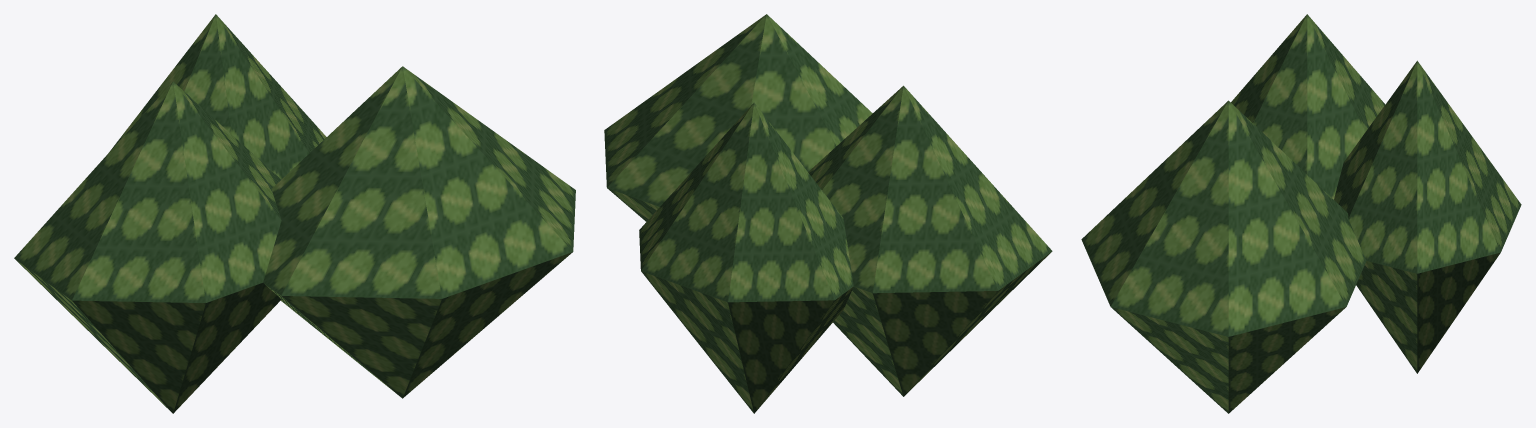
File: shrub-lod0.glb
3 views of the same model, side by side, from view 1: azimuth 30°, elevation 25°; view 2: azimuth 150°, elevation 25°; view 3: azimuth 270°, elevation 25° (orthographic). The views are drawn at different scales.
Bounding box in the file's own units: 0.3401 × 0.22 × 0.2799.
1 material, 1 textured.
